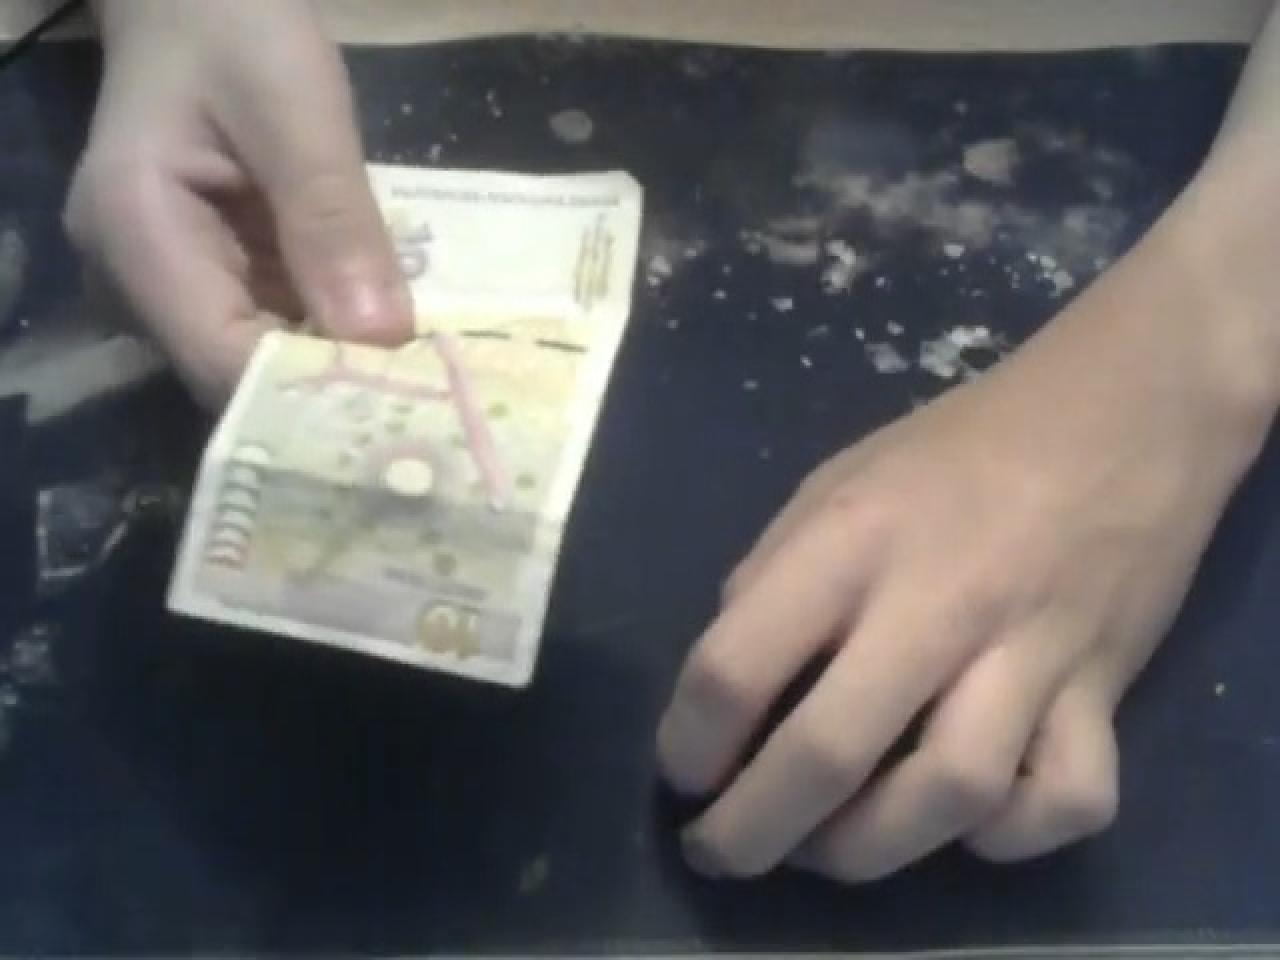10leva: (162, 165, 644, 694)
